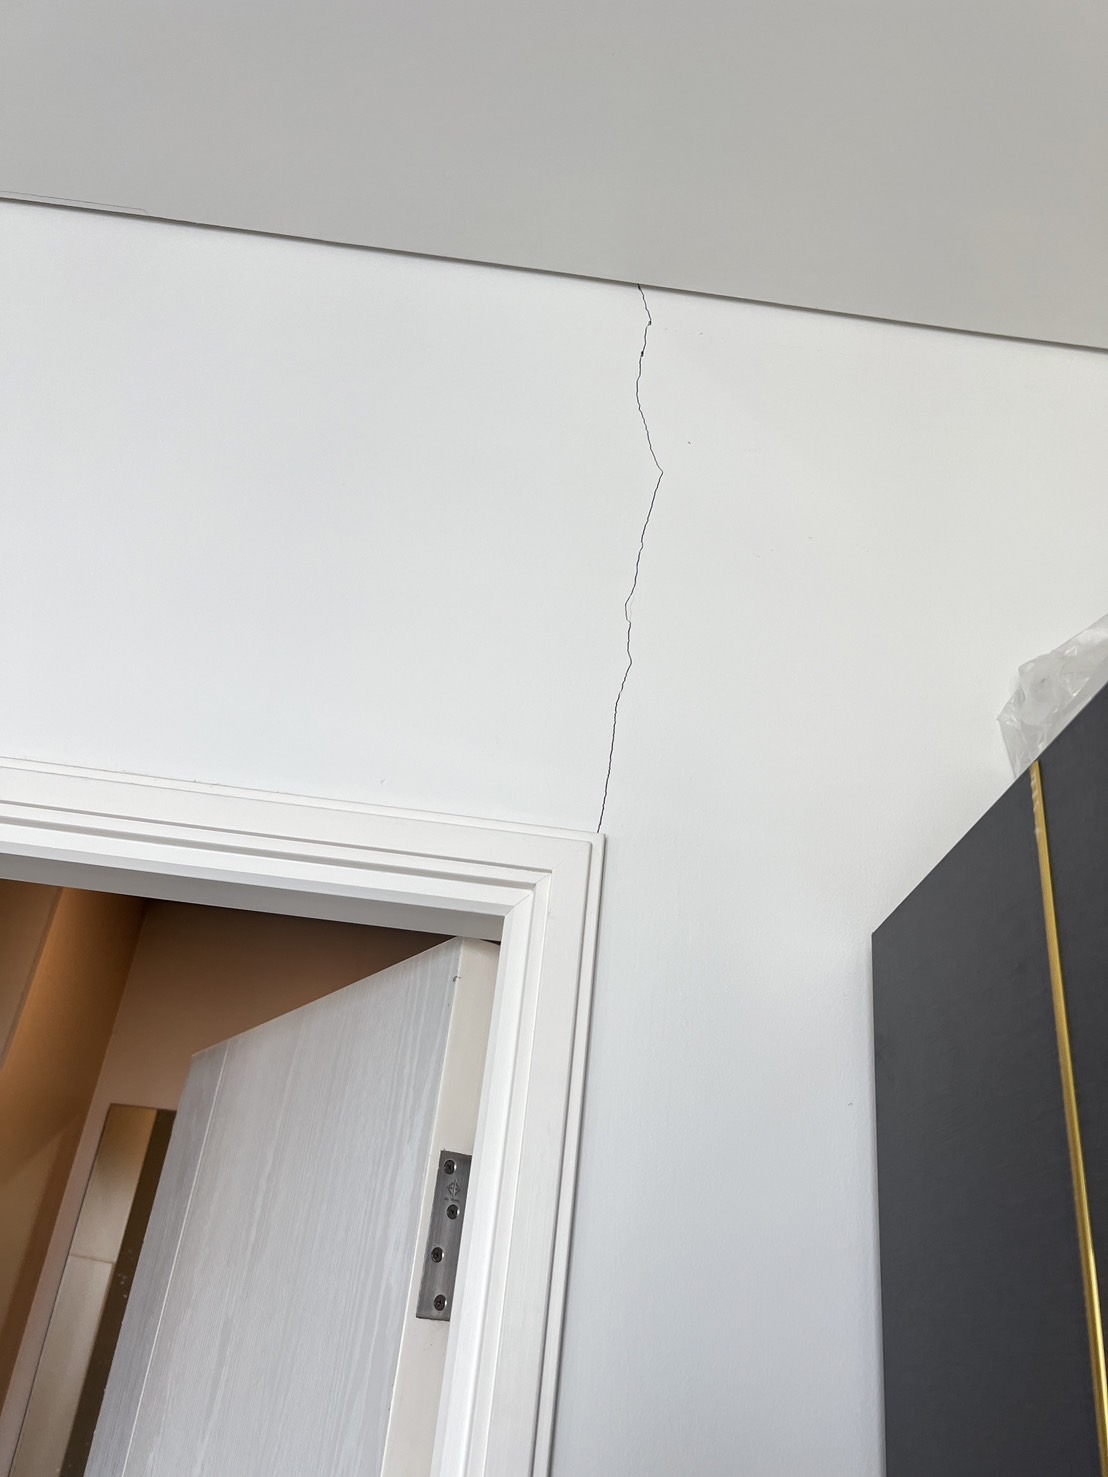Low: (591, 278, 670, 850)
